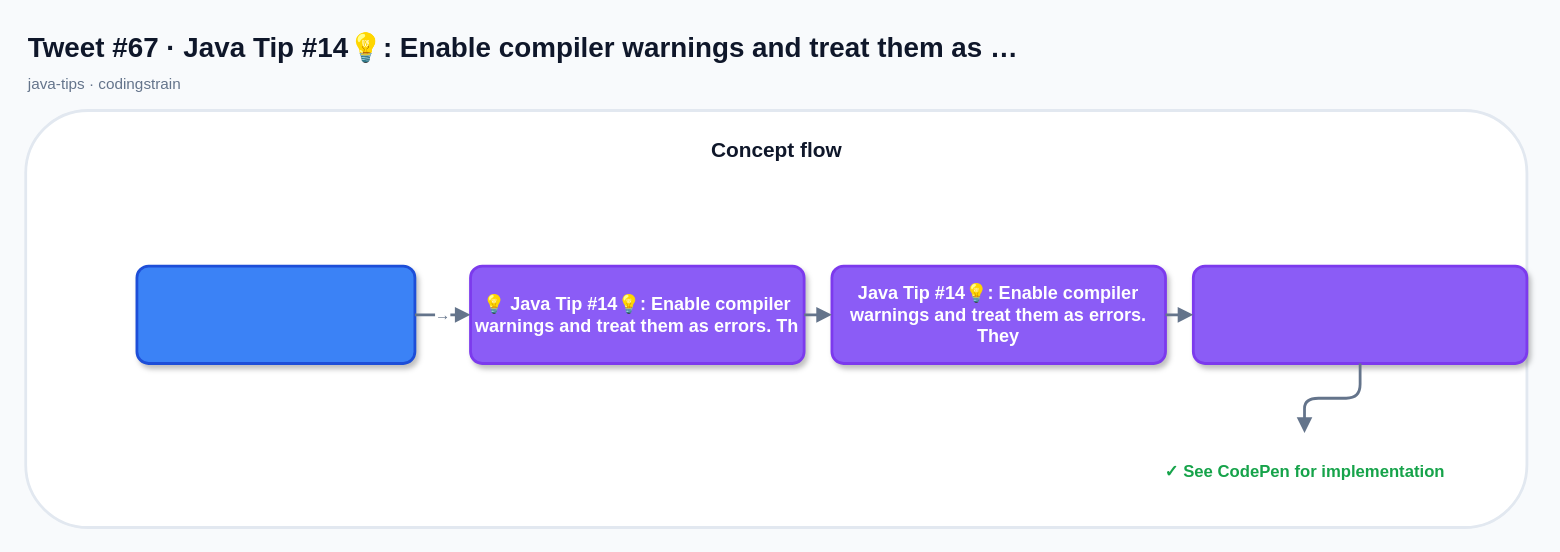
Image size: 1560x552. Some labels were removed from this diagram. The shapes that lost their labels are listed below. From the top down, each one's centre as x and y in pixels, then its label:
the point at 276,316: Problem / context
the point at 1361,316: Runnable sample: `java-tips`
